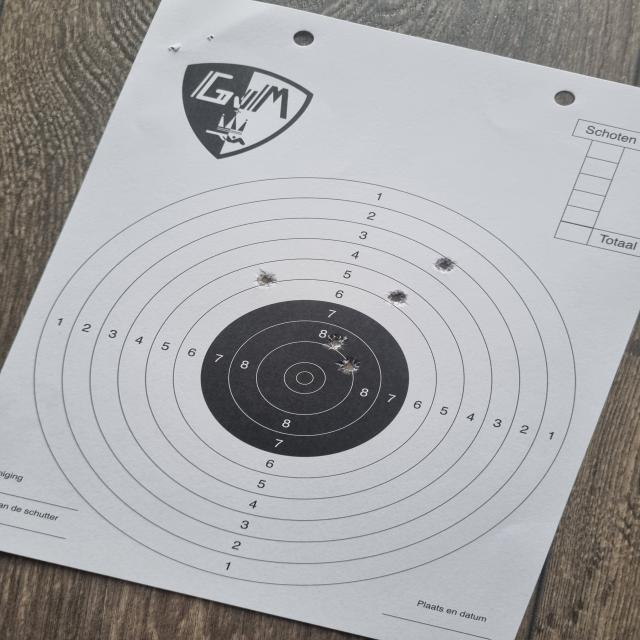10: (335, 356, 360, 374), (321, 334, 347, 350)
4: (432, 257, 458, 272)
6: (386, 290, 408, 304)
7: (253, 268, 278, 288)
Black Contour: (202, 300, 408, 457)
Target: (25, 173, 585, 586)
